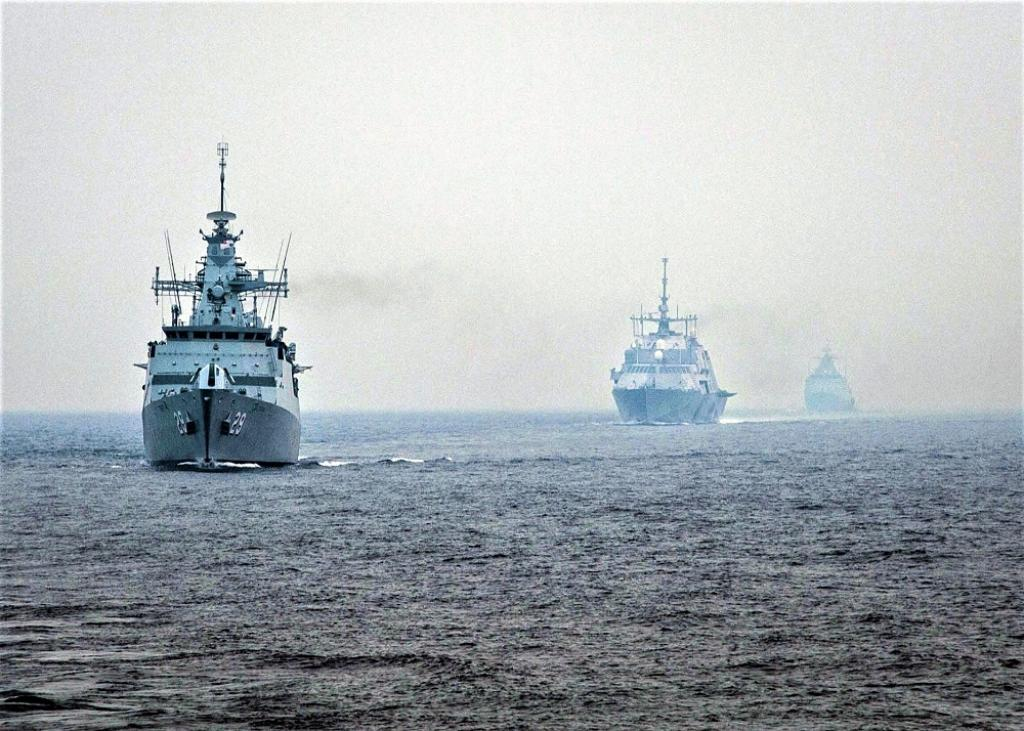Warship: (136, 126, 314, 466), (606, 242, 738, 428), (796, 332, 862, 417)
